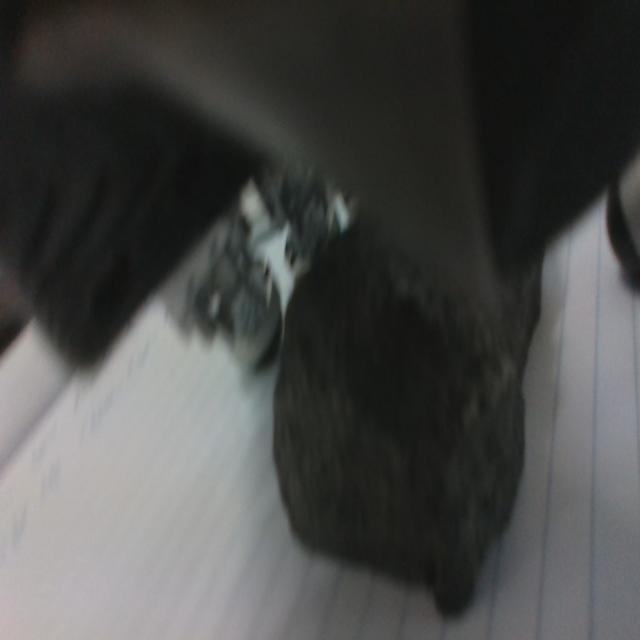stone: (272, 222, 547, 620)
